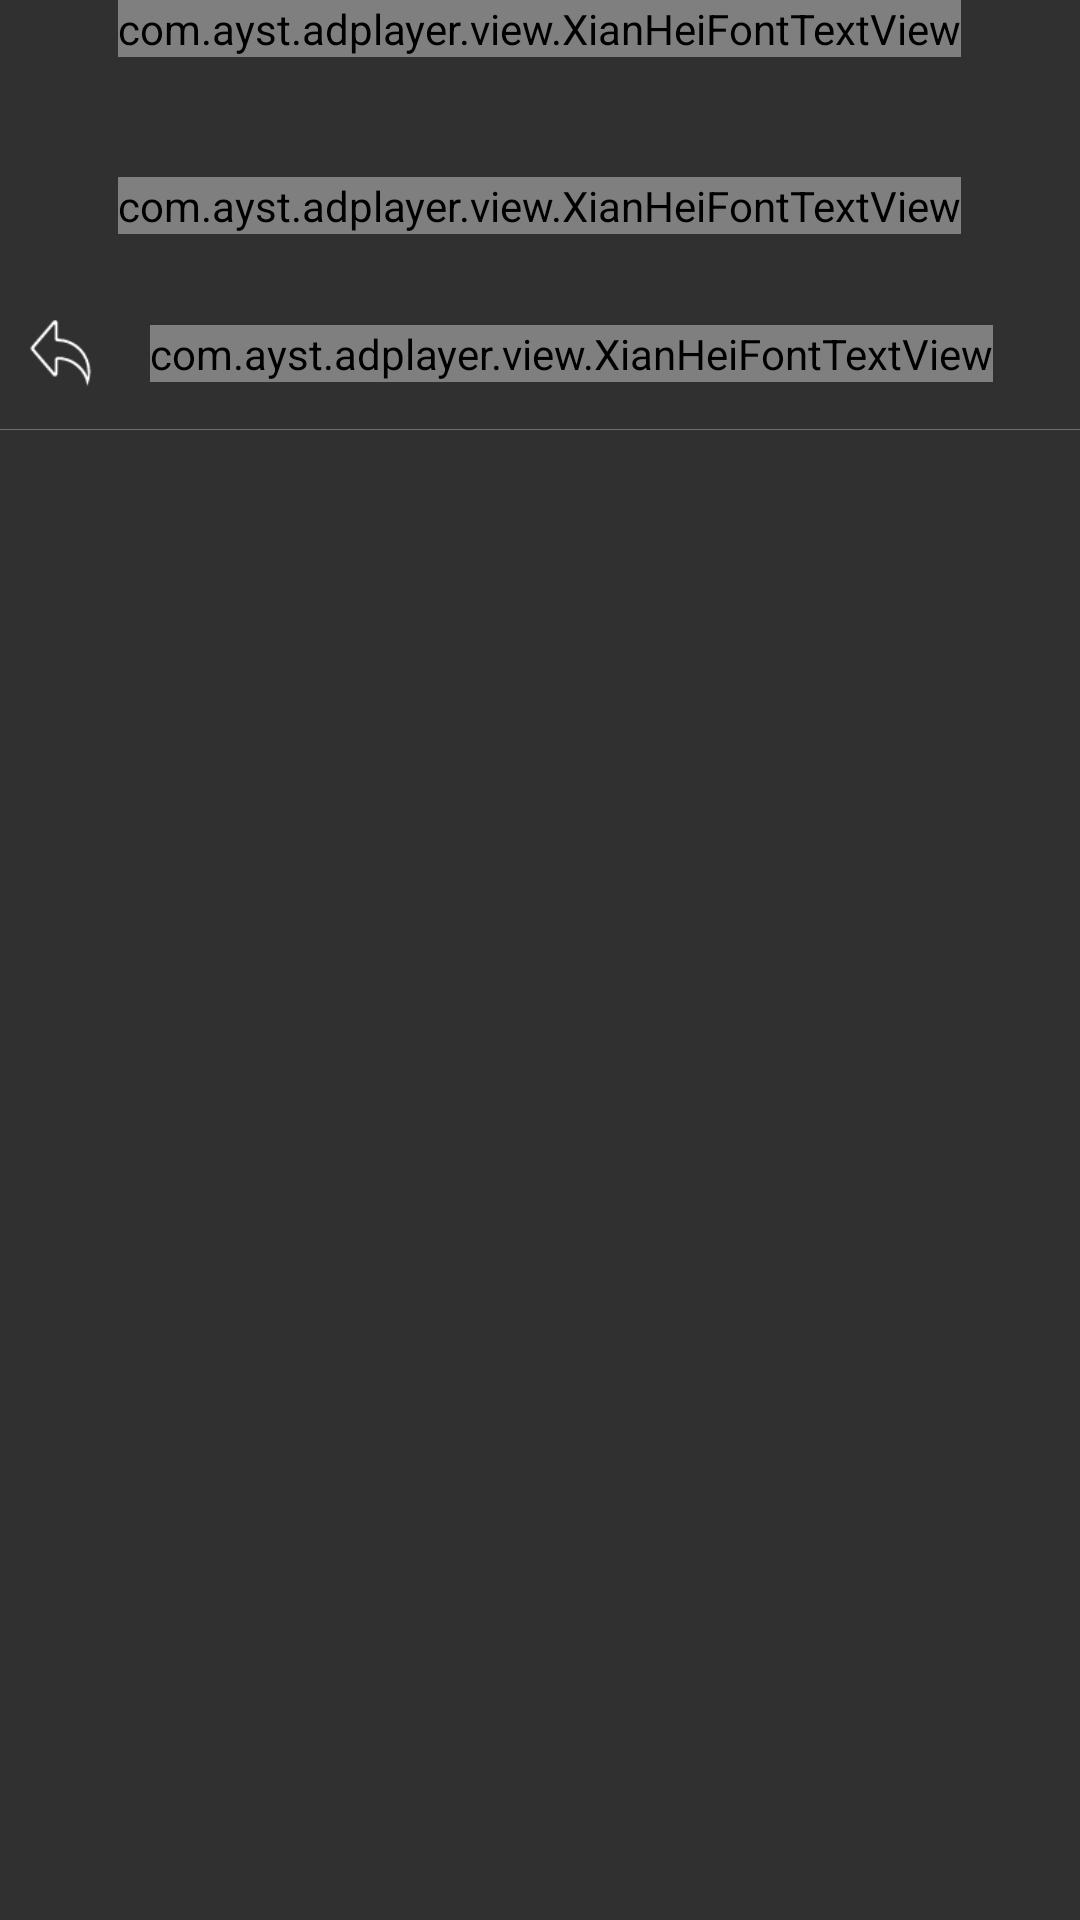

Named icons in this screenshot (1080*1920) and their centers, (x=x, y=y):
back: (x=60, y=353)
